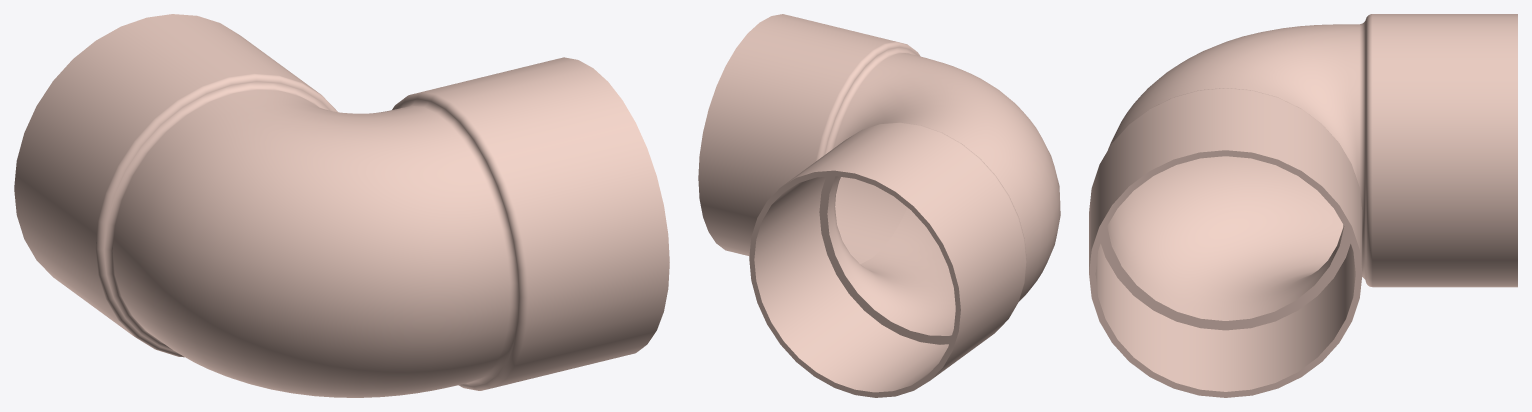
The model's file is Codo Cobre 2.1-2 Dimaflow.obj.
3 views of the same model, side by side, from view 1: azimuth 30°, elevation 25°; view 2: azimuth 150°, elevation 25°; view 3: azimuth 270°, elevation 25° (orthographic). The views are drawn at different scales.
Parts seen in each view (by area): view 1: Cuerpo3; view 2: Cuerpo3; view 3: Cuerpo3.
Part boxes in pixels (<box>): Cuerpo3: <box>14,14,669,397</box>; Cuerpo3: <box>698,14,1060,397</box>; Cuerpo3: <box>1089,14,1517,397</box>.
Bounding box in the file's own units: 11 × 7.01 × 11.
